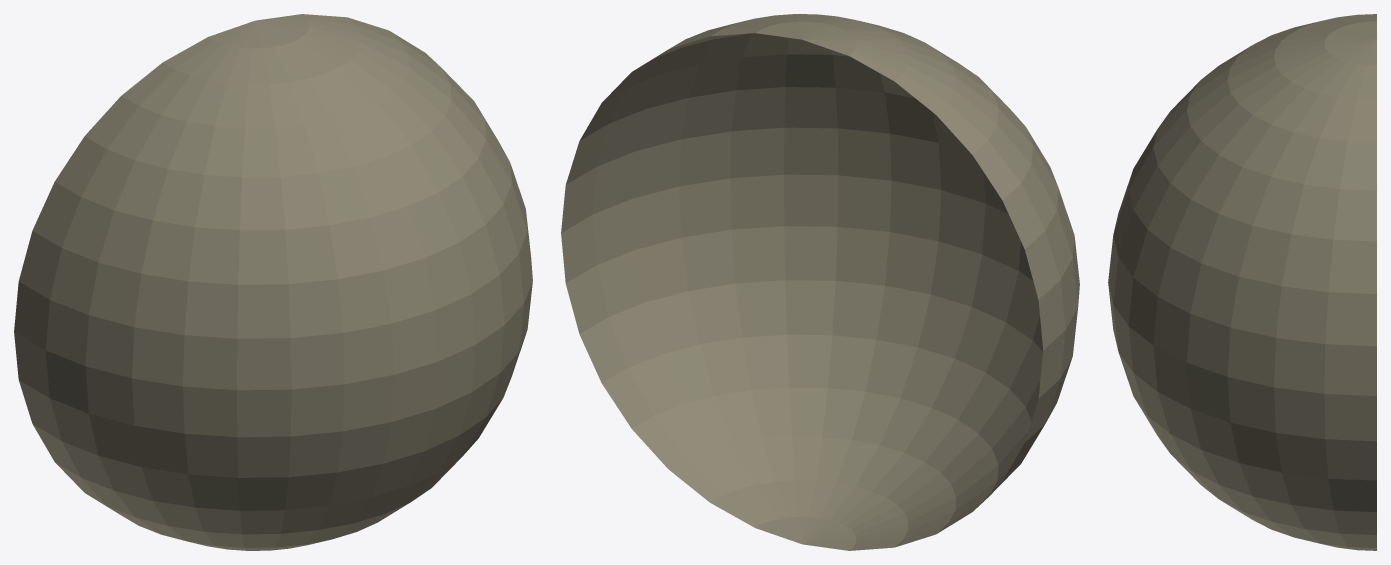
The model's file is mound.glb.
3 views of the same model, side by side, from view 1: azimuth 30°, elevation 25°; view 2: azimuth 150°, elevation 25°; view 3: azimuth 270°, elevation 25° (orthographic). The views are drawn at different scales.
Parts seen in each view (by area): view 1: mound; view 2: mound; view 3: mound.
Part boxes in pixels (bbox=[...]): mound: bbox=[14, 14, 532, 550]; mound: bbox=[561, 14, 1079, 550]; mound: bbox=[1108, 14, 1376, 550].
Bounding box in the file's own units: 2 × 2 × 1.
